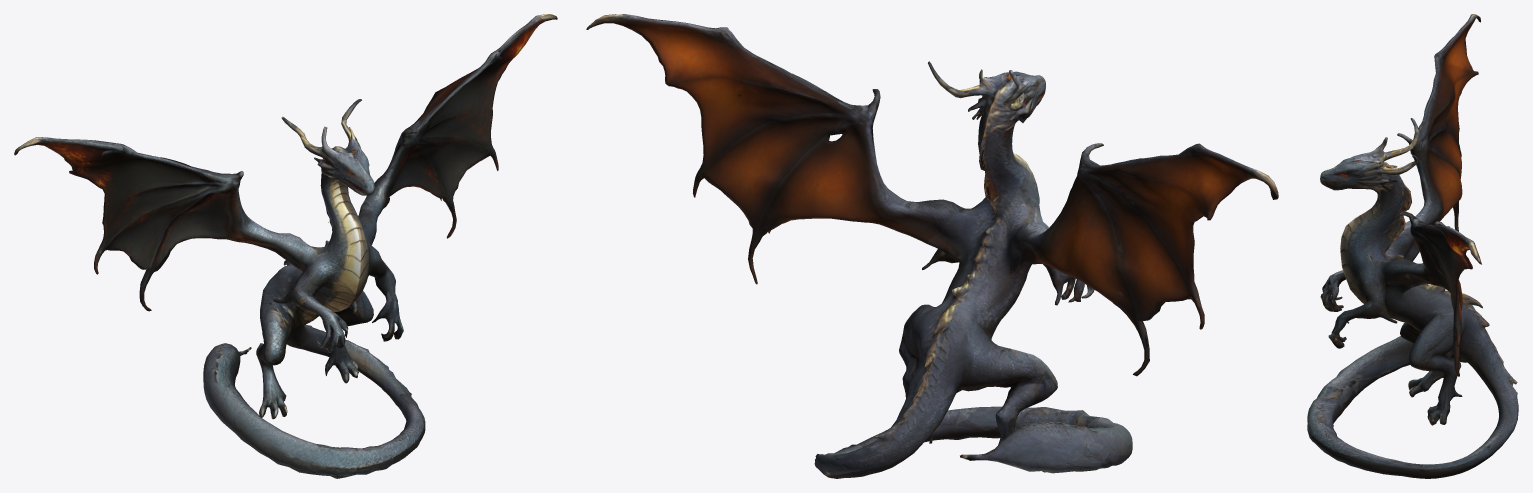
Rendered from Generate_a_high_quali_0123070733_texture.glb.
3 views of the same model, side by side, from view 1: azimuth 30°, elevation 25°; view 2: azimuth 150°, elevation 25°; view 3: azimuth 270°, elevation 25° (orthographic). The views are drawn at different scales.
Size of the model in its own units: 2.01 by 1.19 by 0.7312.
1 material, 1 textured.
